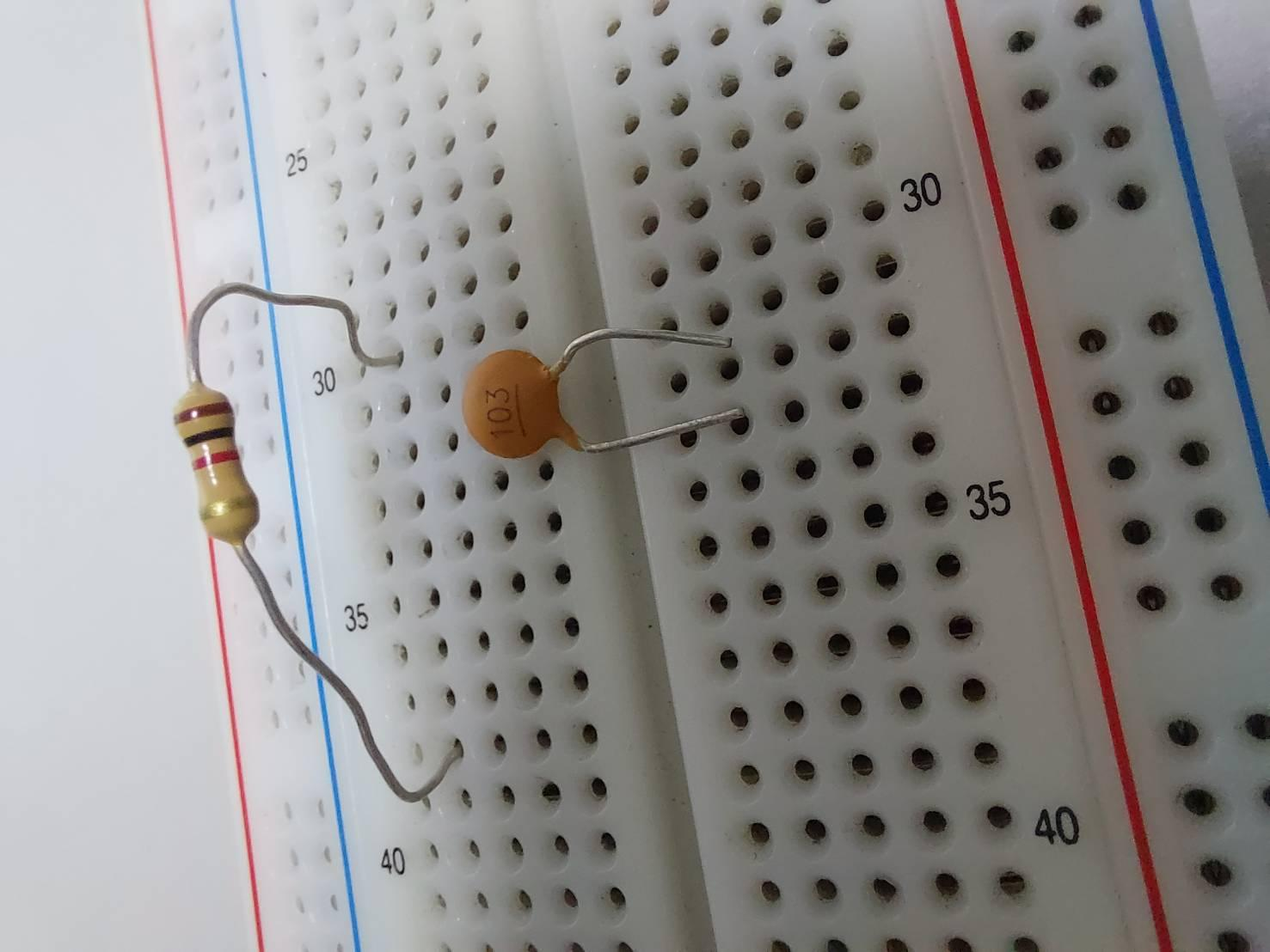resistor: (170, 381, 272, 538)
